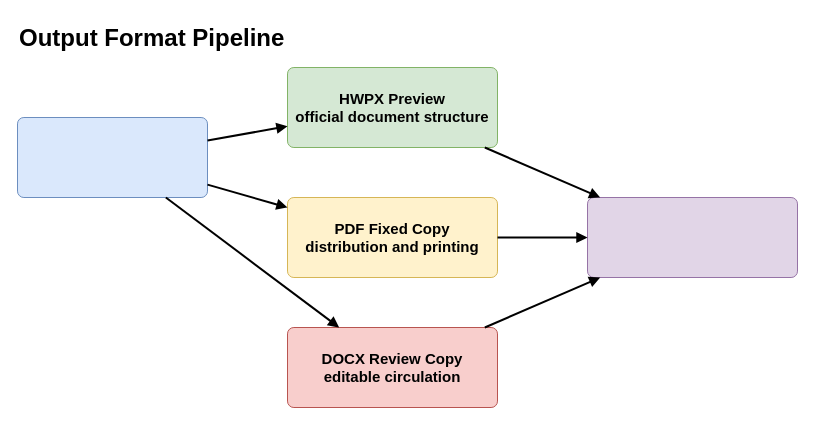
Image size: 815x425. Some labels were removed from this diagram. Each missing label, with the centre of its shape:
"Quarto Source single reusable manuscript" goes at (112,157).
"Validation Gate approve / hold / revise" goes at (692,237).
